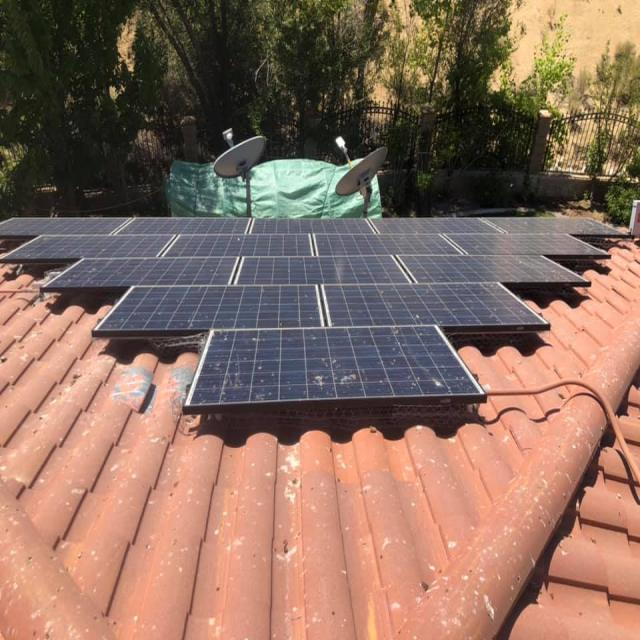dust-solar-panel: (0, 216, 631, 409)
